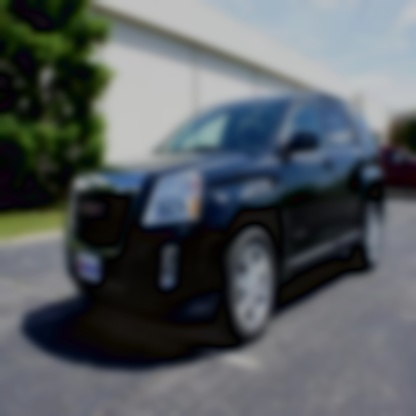Vehicle: (64, 93, 386, 348)
